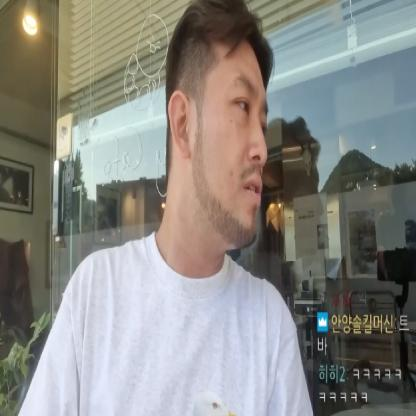streamer: (17, 0, 314, 416)
